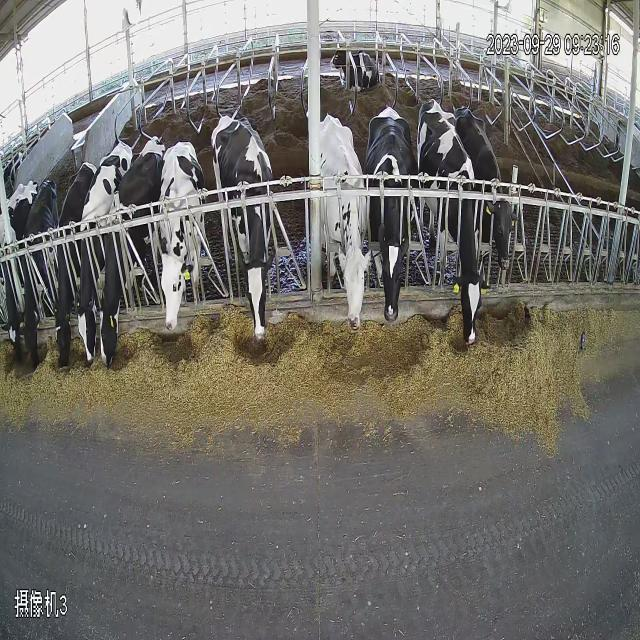feeding: (213, 103, 290, 363), (419, 99, 487, 393), (100, 134, 168, 369), (314, 113, 370, 386), (76, 128, 138, 366), (370, 105, 418, 356), (56, 158, 98, 372)
lying down: (312, 23, 412, 106)
standing: (220, 118, 282, 386), (477, 108, 549, 330), (160, 126, 212, 365)
